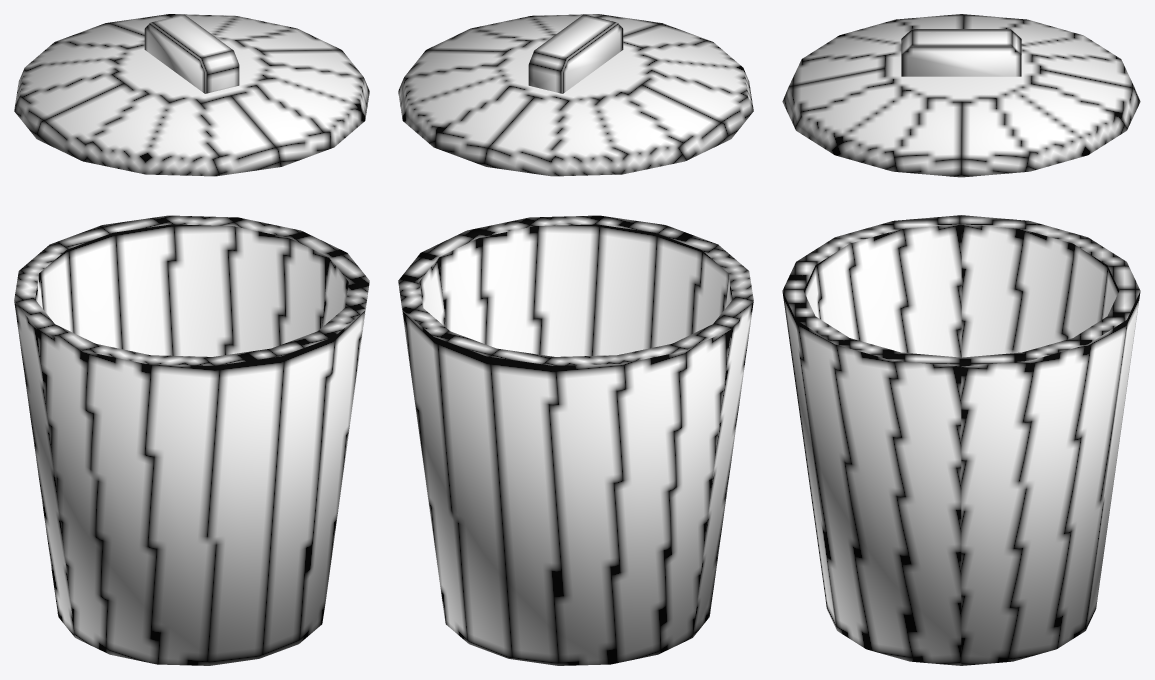
File: Trash.obj
3 views of the same model, side by side, from view 1: azimuth 30°, elevation 25°; view 2: azimuth 150°, elevation 25°; view 3: azimuth 270°, elevation 25° (orthographic).
Visible parts, largest first — view 1: Cylinder1, Cylinder1_sep8; view 2: Cylinder1, Cylinder1_sep8; view 3: Cylinder1, Cylinder1_sep8.
Boxes of the visible parts, x1=… form: Cylinder1: x1=14, y1=215, x2=369, y2=665; Cylinder1_sep8: x1=14, y1=14, x2=369, y2=176; Cylinder1: x1=398, y1=215, x2=753, y2=665; Cylinder1_sep8: x1=398, y1=14, x2=753, y2=176; Cylinder1: x1=782, y1=215, x2=1140, y2=665; Cylinder1_sep8: x1=782, y1=14, x2=1140, y2=177.
Size of the model in its own units: 2 by 3.52 by 2.
Materials: 1 (1 with a texture image).
